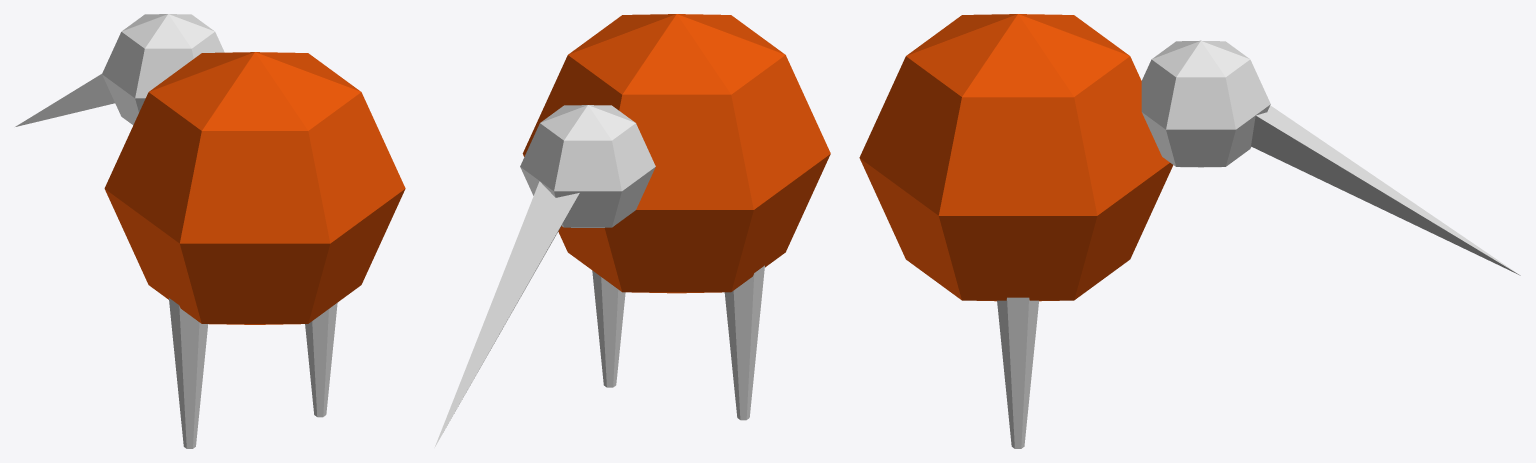
Rendered from kiwi.fbx.
3 renders of one model, left to right at view 1: azimuth 30°, elevation 25°; view 2: azimuth 150°, elevation 25°; view 3: azimuth 270°, elevation 25°, orthographic. The views are drawn at different scales.
Parts seen in each view (by area): view 1: Body, Head, Left Leg, Right Leg, Beak; view 2: Body, Head, Beak, Left Leg, Right Leg; view 3: Body, Head, Beak, Right Leg.
Part boxes in pixels (left/top/right/bottom): Body: left=104, top=52, right=405, bottom=324; Head: left=102, top=14, right=224, bottom=124; Left Leg: left=169, top=298, right=208, bottom=448; Right Leg: left=305, top=303, right=337, bottom=417; Beak: left=15, top=74, right=114, bottom=126; Body: left=522, top=14, right=830, bottom=293; Head: left=520, top=105, right=655, bottom=227; Beak: left=434, top=181, right=579, bottom=447; Left Leg: left=724, top=265, right=764, bottom=420; Right Leg: left=592, top=270, right=625, bottom=387; Body: left=859, top=14, right=1173, bottom=301; Head: left=1141, top=40, right=1270, bottom=167; Beak: left=1251, top=105, right=1520, bottom=275; Right Leg: left=997, top=297, right=1038, bottom=448.
Size of the model in its own units: 204 by 327 by 492.
